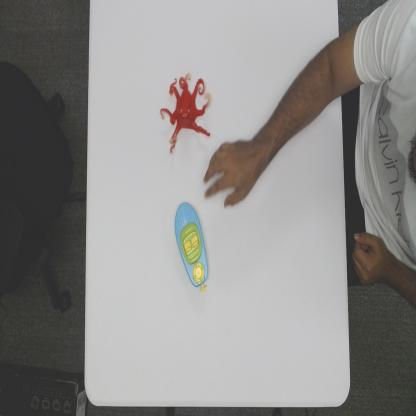Arm: (259, 34, 342, 178)
Boat: (174, 199, 210, 294)
Hand: (204, 138, 258, 209)
Octopus: (159, 72, 212, 155)
